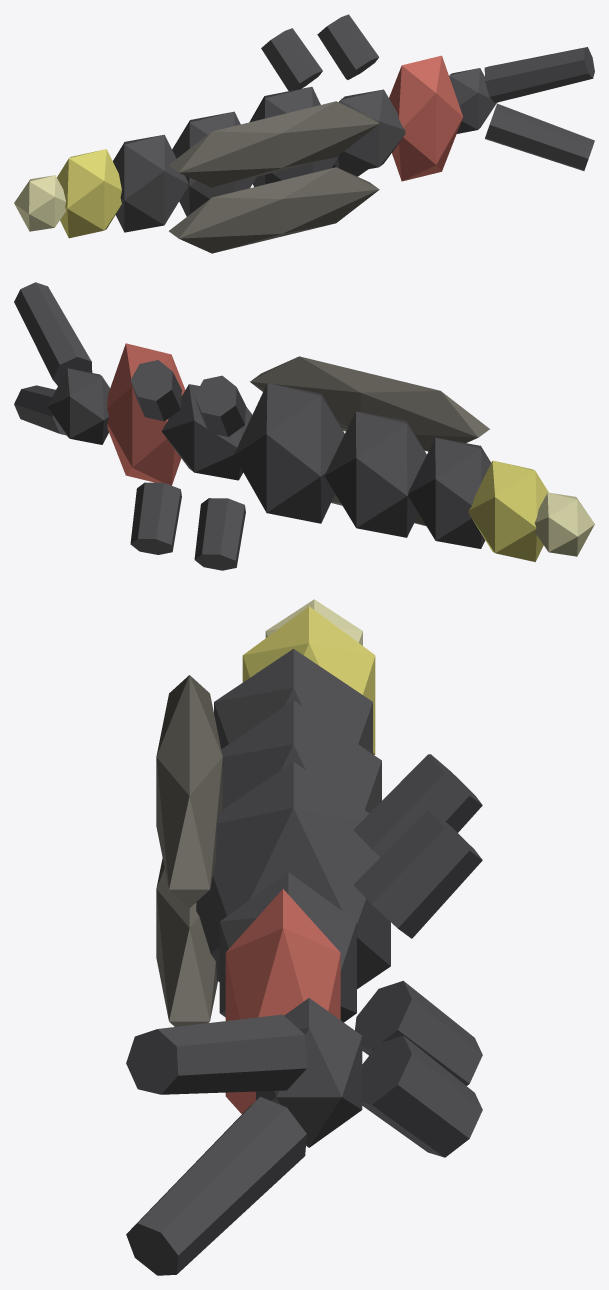
3 views of the same model, one above another, from view 1: azimuth 30°, elevation 25°; view 2: azimuth 150°, elevation 25°; view 3: azimuth 270°, elevation 25° (orthographic). The views are drawn at different scales.
Visible parts, largest first — view 1: part10, part11, part6, part2, part3, part8, part9, part5, part1, part12, part14, part0 (+2 smaller); view 2: part0, part1, part10, part2, part6, part3, part5, part8, part7, part13, part15, part4 (+3 smaller); view 3: part0, part9, part10, part8, part6, part1, part13, part12, part2, part7, part11, part15 (+4 smaller).
Part boxes in pixels (box(x1,y1,x2,y2)): part10: box(169, 101, 379, 187); part11: box(169, 167, 379, 253); part6: box(389, 55, 462, 181); part2: box(113, 134, 188, 232); part3: box(57, 149, 121, 238); part8: box(484, 47, 594, 102); part9: box(485, 103, 594, 170); part5: box(334, 89, 405, 172); part1: box(172, 111, 256, 216); part12: box(317, 14, 378, 79); part14: box(261, 28, 322, 90); part0: box(249, 86, 338, 186); part0: box(233, 383, 344, 523); part1: box(324, 411, 426, 537); part10: box(250, 356, 489, 451); part2: box(408, 437, 490, 548); part6: box(107, 343, 185, 485); part3: box(468, 460, 548, 561); part5: box(161, 384, 252, 480); part8: box(14, 282, 92, 385); part7: box(47, 368, 109, 444); part13: box(130, 482, 181, 554); part15: box(194, 498, 245, 570); part4: box(534, 492, 594, 556); part0: box(196, 762, 390, 988); part9: box(126, 1096, 306, 1275); part10: box(156, 675, 222, 907); part8: box(126, 1014, 306, 1094); part6: box(225, 889, 340, 1113); part1: box(221, 700, 381, 812); part13: box(362, 1035, 482, 1157); part12: box(353, 809, 482, 938); part2: box(214, 649, 372, 753); part7: box(256, 998, 362, 1147); part11: box(156, 858, 217, 1026); part15: box(355, 980, 482, 1085).
Size of the model in its own units: 4.77 by 1.46 by 1.37.
